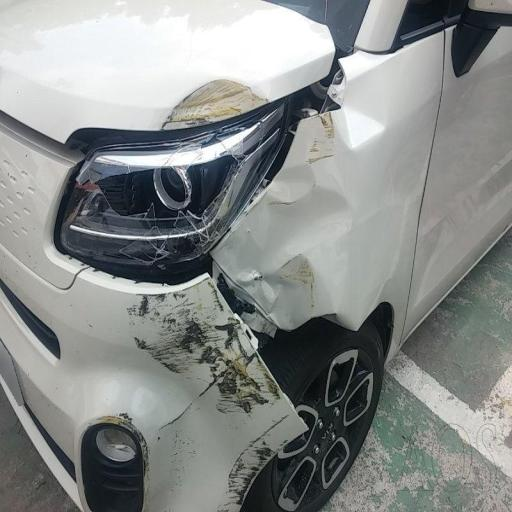broken: (77, 82, 370, 455)
scratch: (121, 276, 246, 512)
